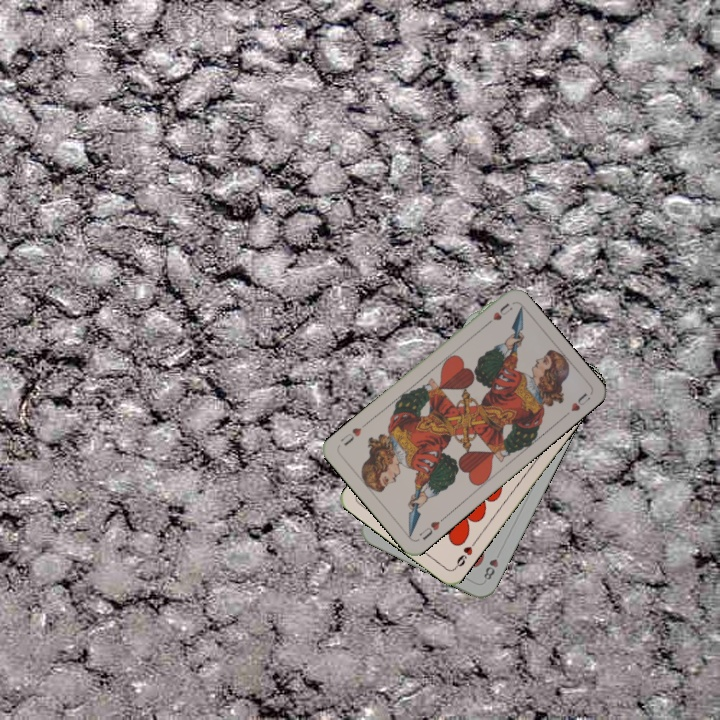H8: (479, 555, 501, 582)
H9: (451, 536, 479, 571)
HU: (480, 299, 515, 329), (415, 513, 448, 543)
